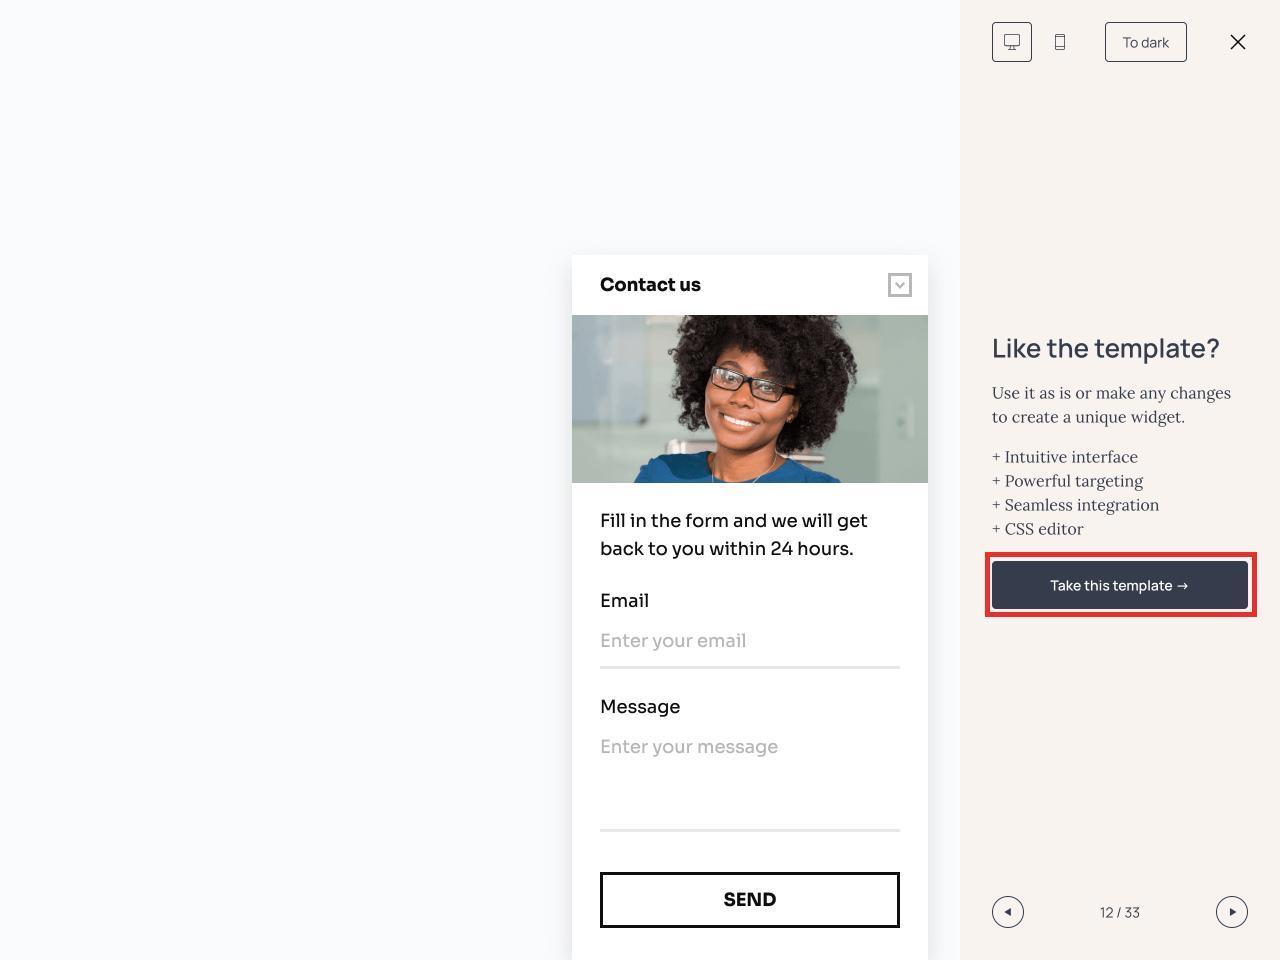button: (602, 873, 900, 927), (993, 562, 1248, 607), (1107, 22, 1185, 64)
icon: (1001, 27, 1026, 61), (1051, 32, 1072, 59)
input: (594, 736, 911, 833), (595, 621, 906, 670)
label: (598, 697, 681, 720), (599, 592, 656, 612)
